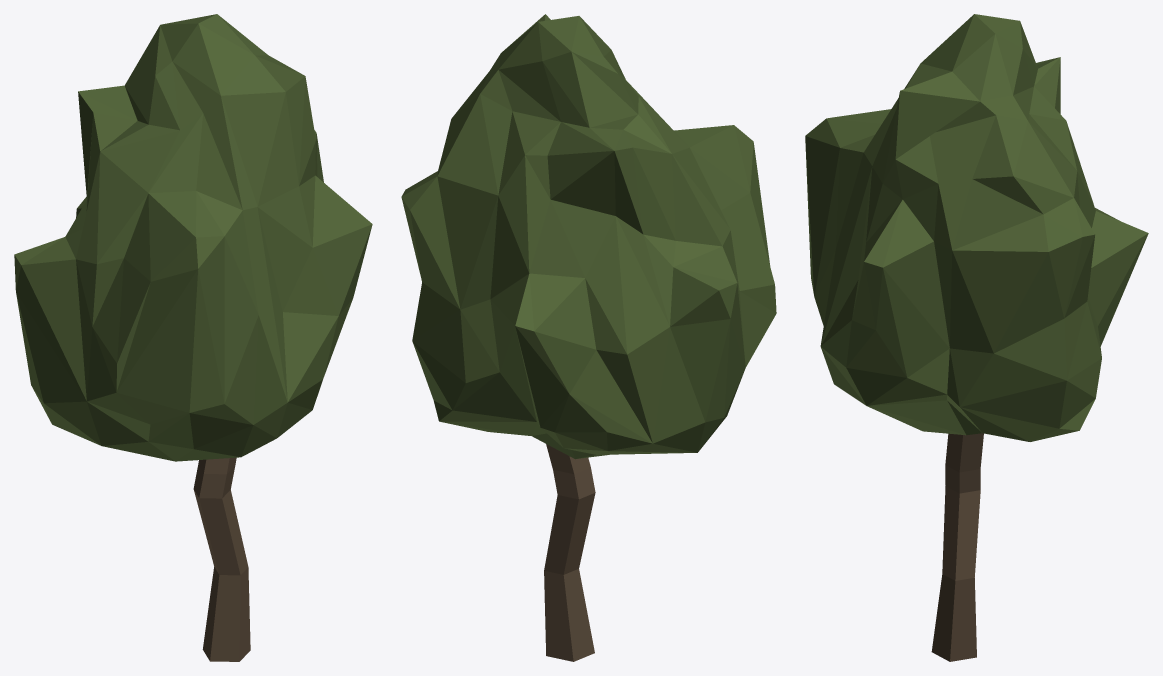
The model's file is tree_012.fbx.
3 renders of one model, left to right at view 1: azimuth 30°, elevation 25°; view 2: azimuth 150°, elevation 25°; view 3: azimuth 270°, elevation 25°, orthographic. The views are drawn at different scales.
Parts seen in each view (by area): view 1: tree_012; view 2: tree_012; view 3: tree_012.
Part boxes in pixels (x1,y1,x2,y2): tree_012: (14,14,372,661); tree_012: (401,14,776,661); tree_012: (805,14,1148,661).
Size of the model in its own units: 0.4231 by 0.8553 by 0.4238.
Materials: 1 (1 with a texture image).
